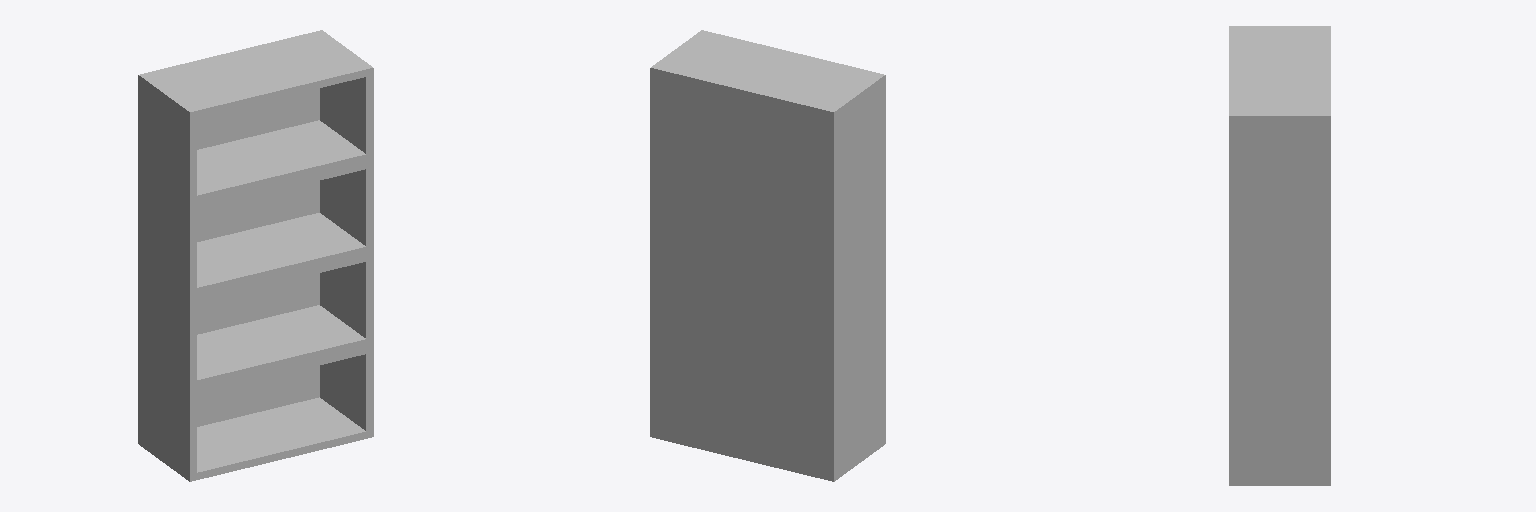
Rendered from shelf.obj.
The picture shows the model from 3 angles: view 1: azimuth 30°, elevation 25°; view 2: azimuth 150°, elevation 25°; view 3: azimuth 270°, elevation 25°; orthographic projection.
Visible parts, largest first — view 1: Cube_Cube.001; view 2: Cube_Cube.001; view 3: Cube_Cube.001.
Part boxes in pixels (left/top/right/bottom): Cube_Cube.001: left=138, top=30, right=373, bottom=481; Cube_Cube.001: left=650, top=30, right=885, bottom=481; Cube_Cube.001: left=1229, top=26, right=1330, bottom=485.
Bounding box in the file's own units: 2 × 3.85 × 0.9712.